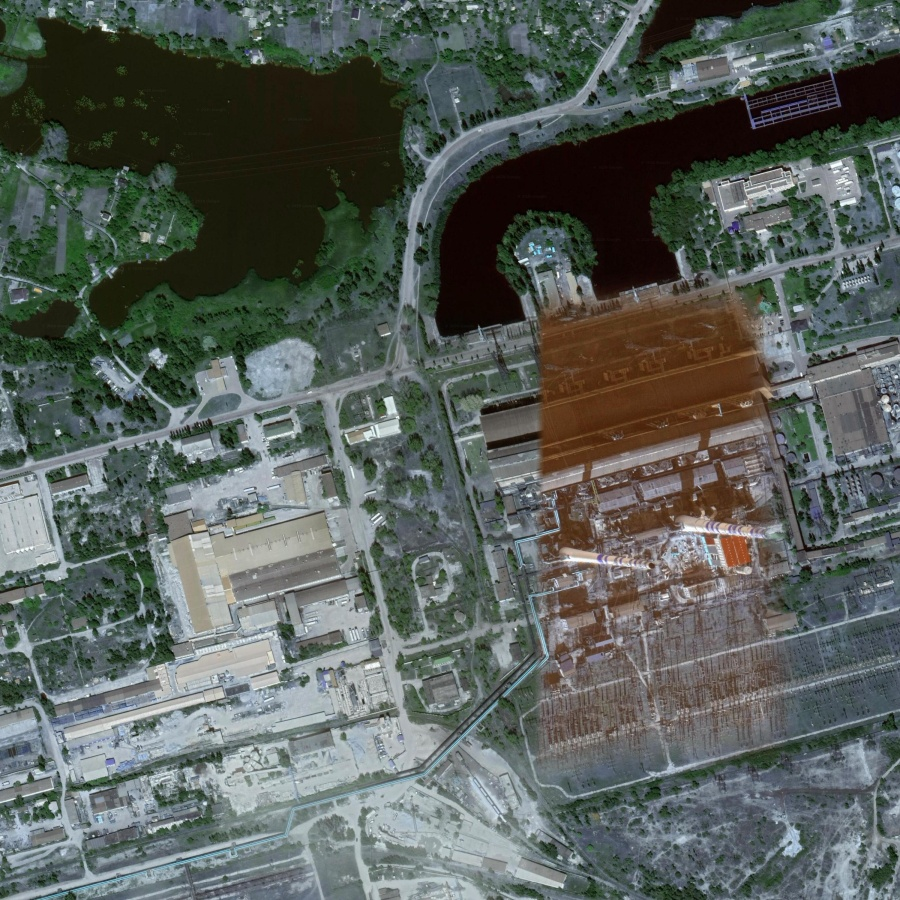PowerPlant: (504, 388, 844, 657)
